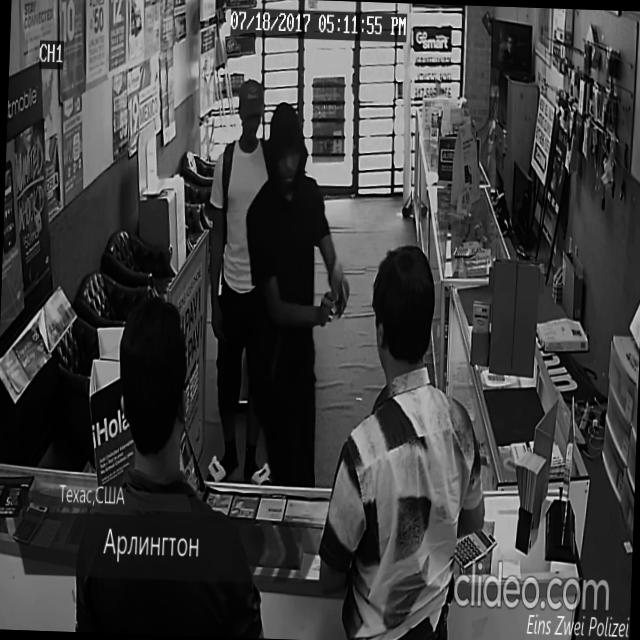gun: (328, 272, 349, 332)
person: (314, 239, 496, 640), (71, 291, 278, 638), (198, 76, 287, 484)
person with a gun: (236, 98, 356, 486)
